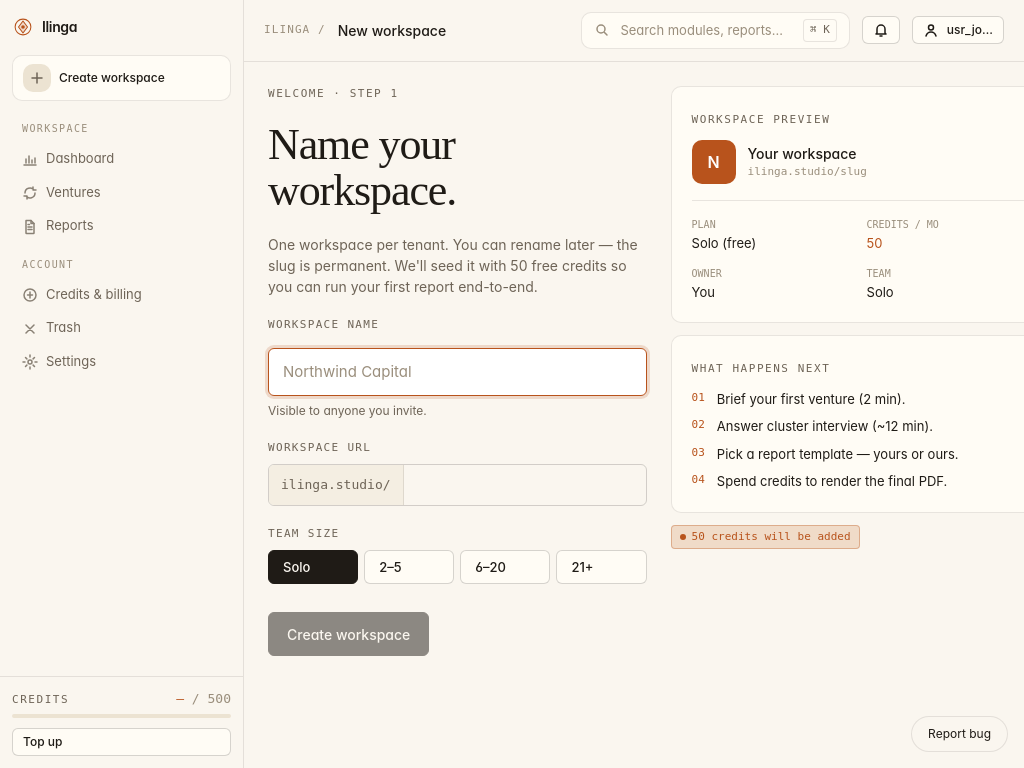
Test case: phase 06 · first-run journey › lands new users on /workspaces/new and walks them through to a venture
create workspace
In the field labelled "Workspace name": {"x": 457, "y": 372} [268,348,647,396], type "Northwind Studio"
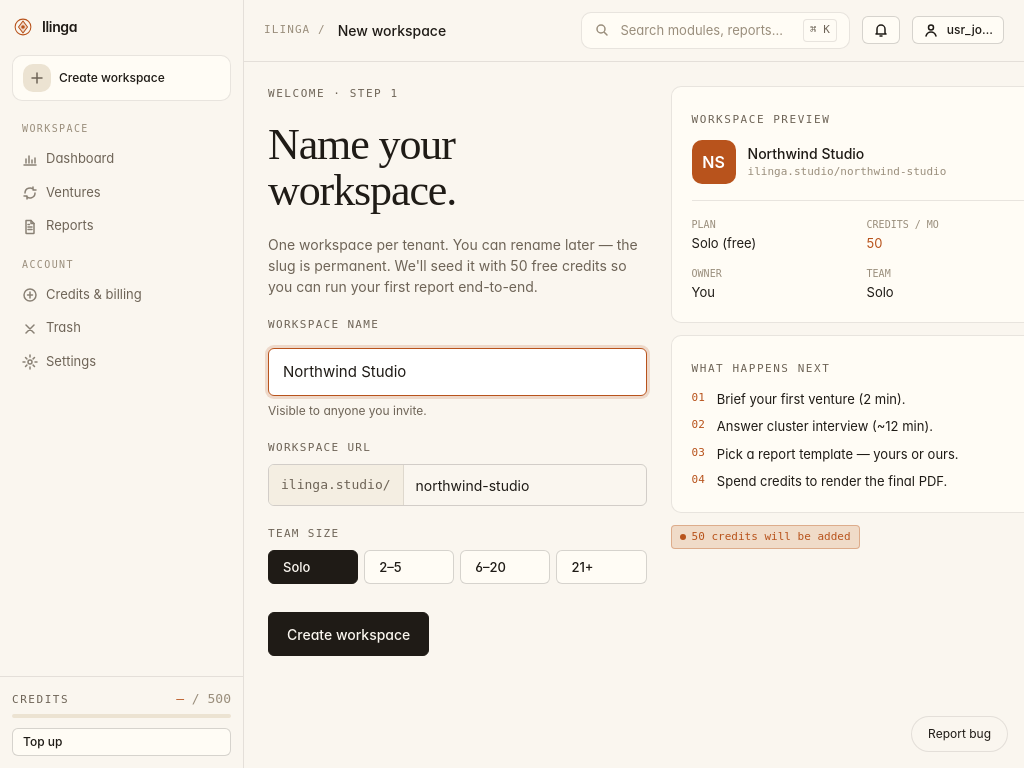
Click the button "Create workspace": {"x": 349, "y": 634} [268,612,429,656]
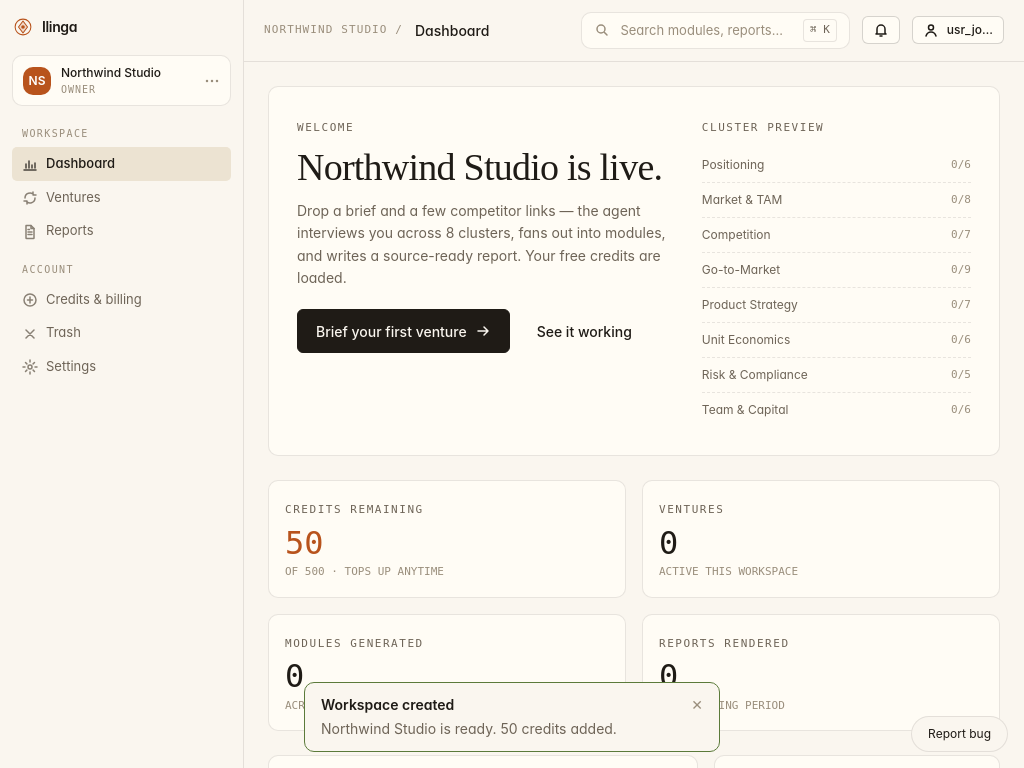
Expected: the link "Brief your first venture" is shown, [297,310,510,354]
Result: the heading "Northwind Studio is live." is shown at [297,148,674,188]
